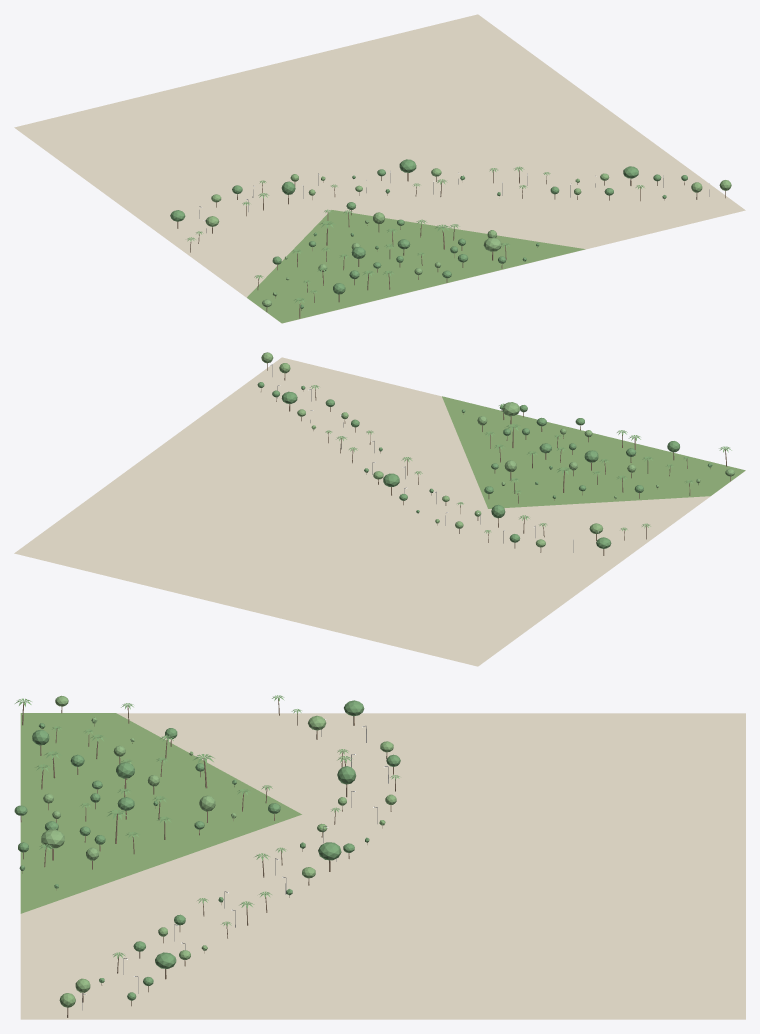
Rendered from nature_3_-6.glb.
The picture shows the model from 3 angles, top to bottom: view 1: azimuth 30°, elevation 25°; view 2: azimuth 150°, elevation 25°; view 3: azimuth 270°, elevation 25°; orthographic projection. The views are drawn at different scales.
Visible parts, largest first — view 1: ground, grass, foliage_a, foliage_b, palm_leaf, trunk; view 2: ground, grass, foliage_a, foliage_b, trunk, palm_leaf; view 3: ground, grass, foliage_a, foliage_b, palm_leaf, trunk.
Part boxes in pixels (left/top/right/bottom): ground: left=14, top=14, right=745, bottom=323; grass: left=247, top=210, right=585, bottom=323; foliage_a: left=170, top=159, right=687, bottom=308; foliage_b: left=205, top=168, right=731, bottom=307; palm_leaf: left=187, top=166, right=644, bottom=303; trunk: left=177, top=170, right=725, bottom=318; ground: left=14, top=357, right=744, bottom=666; grass: left=442, top=396, right=745, bottom=508; foliage_a: left=257, top=382, right=712, bottom=548; foliage_b: left=261, top=352, right=734, bottom=547; trunk: left=261, top=363, right=730, bottom=555; palm_leaf: left=310, top=385, right=731, bottom=533; ground: left=20, top=713, right=745, bottom=1019; grass: left=20, top=713, right=301, bottom=913; foliage_a: left=14, top=700, right=400, bottom=1000; foliage_b: left=41, top=695, right=396, bottom=1007; palm_leaf: left=15, top=695, right=399, bottom=958; trunk: left=20, top=699, right=395, bottom=1017.
Size of the model in its own units: 253 by 11.99 by 252.
